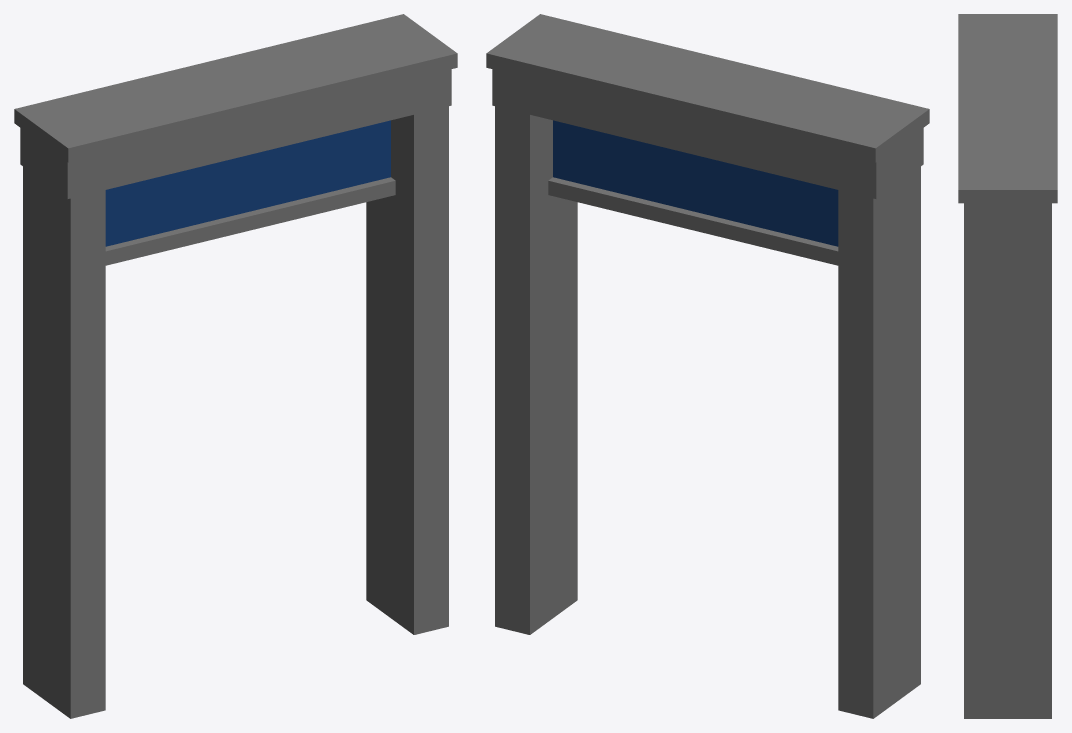
File: jamb2_door3.FBX
The picture shows the model from 3 angles, left to right: view 1: azimuth 30°, elevation 25°; view 2: azimuth 150°, elevation 25°; view 3: azimuth 270°, elevation 25°; orthographic projection. The views are drawn at different scales.
Visible parts, largest first — view 1: jamb2_door2; view 2: jamb2_door2; view 3: jamb2_door2.
Part boxes in pixels (x1,y1,x2,y2): jamb2_door2: (14,14,457,718); jamb2_door2: (486,14,929,718); jamb2_door2: (958,14,1057,718).
Bounding box in the file's own units: 284 × 400 × 68.
